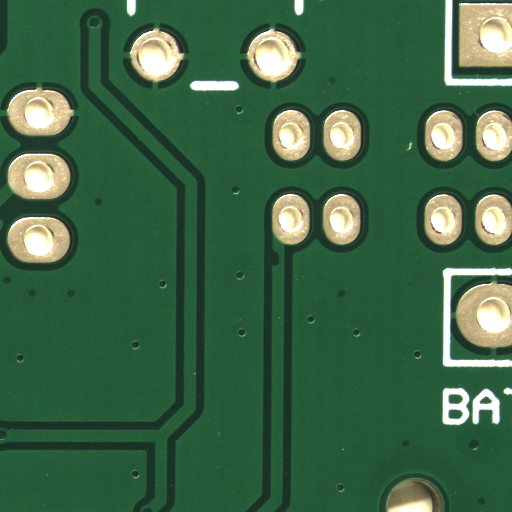Mouse_bite: (275, 258, 284, 275)
